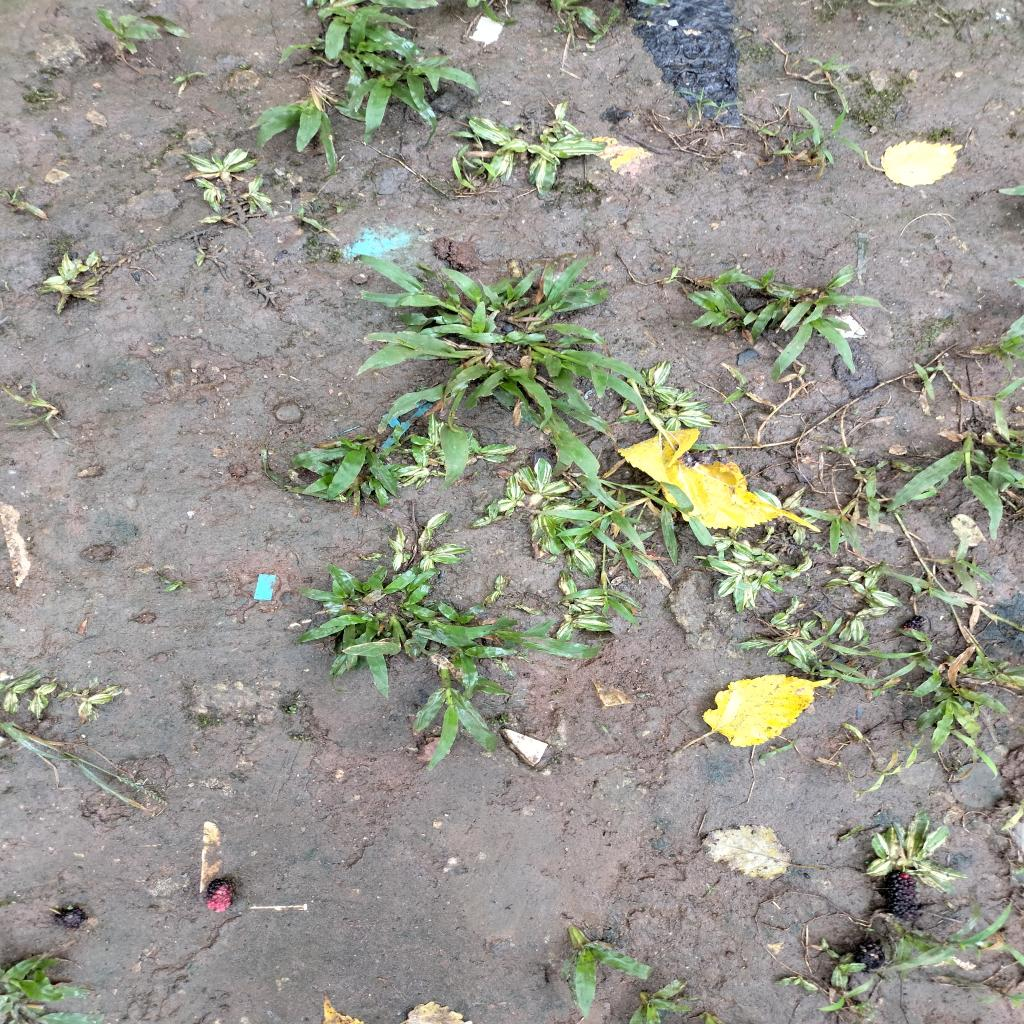rambat atas: (873, 898, 1015, 973), (622, 484, 716, 569), (535, 497, 649, 557), (942, 369, 1024, 447), (555, 567, 645, 633), (917, 531, 995, 602), (798, 481, 866, 557), (796, 99, 865, 166), (613, 530, 675, 580), (892, 570, 970, 609), (948, 728, 999, 782), (830, 658, 919, 685), (850, 749, 902, 795), (554, 519, 622, 554), (817, 976, 875, 1015), (824, 640, 929, 660), (671, 84, 712, 130), (858, 467, 882, 536), (773, 125, 824, 156), (803, 52, 856, 80), (802, 616, 844, 651), (720, 360, 750, 404), (912, 360, 942, 402), (702, 98, 746, 124), (892, 625, 934, 652), (757, 737, 798, 761), (450, 156, 478, 191), (972, 990, 1024, 1008), (660, 265, 688, 296), (904, 733, 926, 770), (469, 157, 499, 183), (447, 131, 483, 149), (746, 117, 777, 137)
rambat bawah: (885, 427, 1004, 541), (528, 333, 652, 425), (411, 657, 500, 773), (438, 353, 554, 435), (560, 921, 657, 1019), (354, 330, 493, 398), (288, 434, 399, 519), (247, 84, 340, 176), (525, 255, 614, 349), (356, 253, 473, 321), (346, 74, 441, 149), (476, 267, 591, 327), (338, 612, 482, 658), (324, 3, 424, 68), (94, 1, 194, 62), (770, 316, 858, 384), (0, 955, 104, 1004), (489, 618, 606, 660), (404, 54, 482, 112), (967, 313, 1024, 386), (915, 694, 983, 754), (450, 645, 519, 702), (293, 610, 388, 647), (692, 267, 757, 320), (627, 978, 695, 1024), (946, 652, 1023, 692), (749, 286, 804, 341), (294, 568, 368, 608), (979, 431, 1024, 496), (803, 294, 894, 326), (361, 563, 440, 599), (681, 289, 744, 331), (810, 262, 860, 313), (732, 267, 806, 300), (932, 686, 1011, 714), (430, 300, 488, 338), (390, 580, 443, 618), (910, 650, 943, 698), (457, 330, 548, 347), (434, 599, 476, 627), (379, 423, 405, 463)
